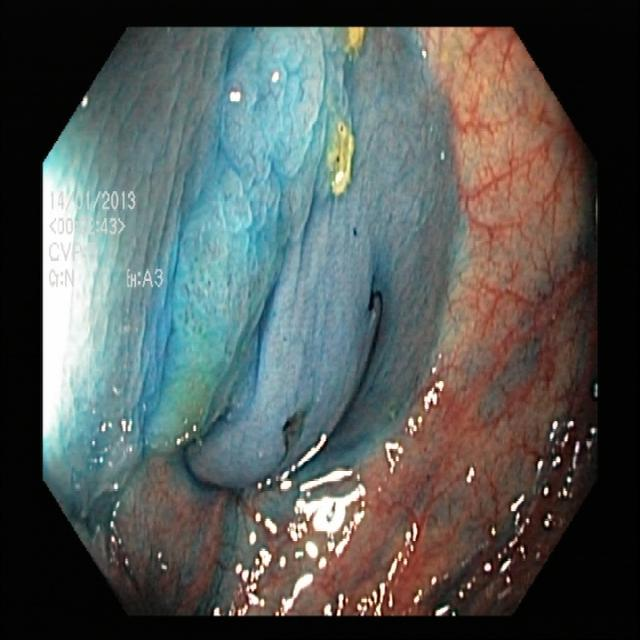dyed-lifted-polyps: (145, 17, 372, 459)
